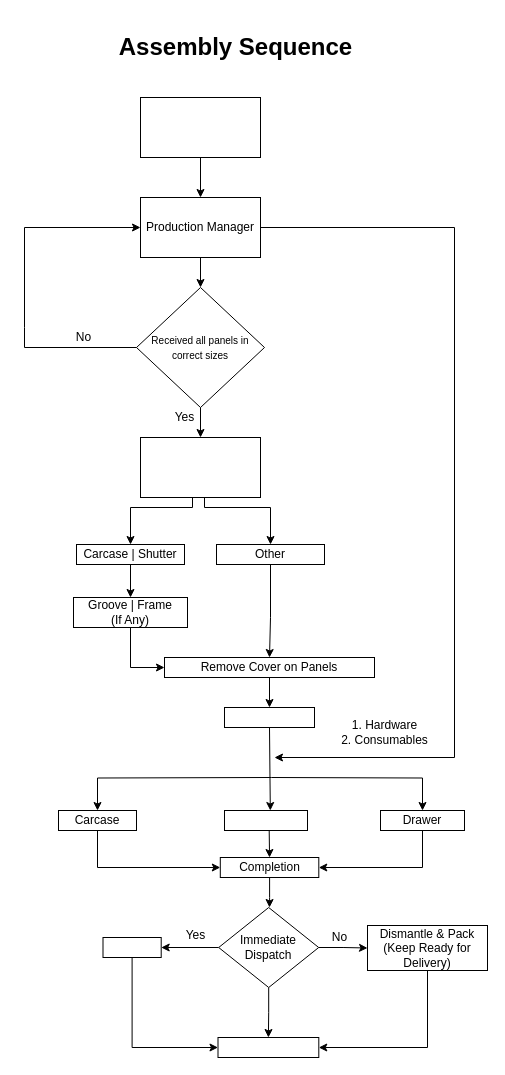
The diagram is 505 pixels wide and 1075 high, and some of its shapes have lost their labels. The shapes that lost their labels are listed below. From the top down, each one's centre as x and y in pixels, then its label:
pixel 200 127: Inventory
pixel 200 467: Segregate All Panels
pixel 269 717: Scraping
pixel 266 820: Shutter
pixel 131 947: Clean
pixel 268 1047: Load
